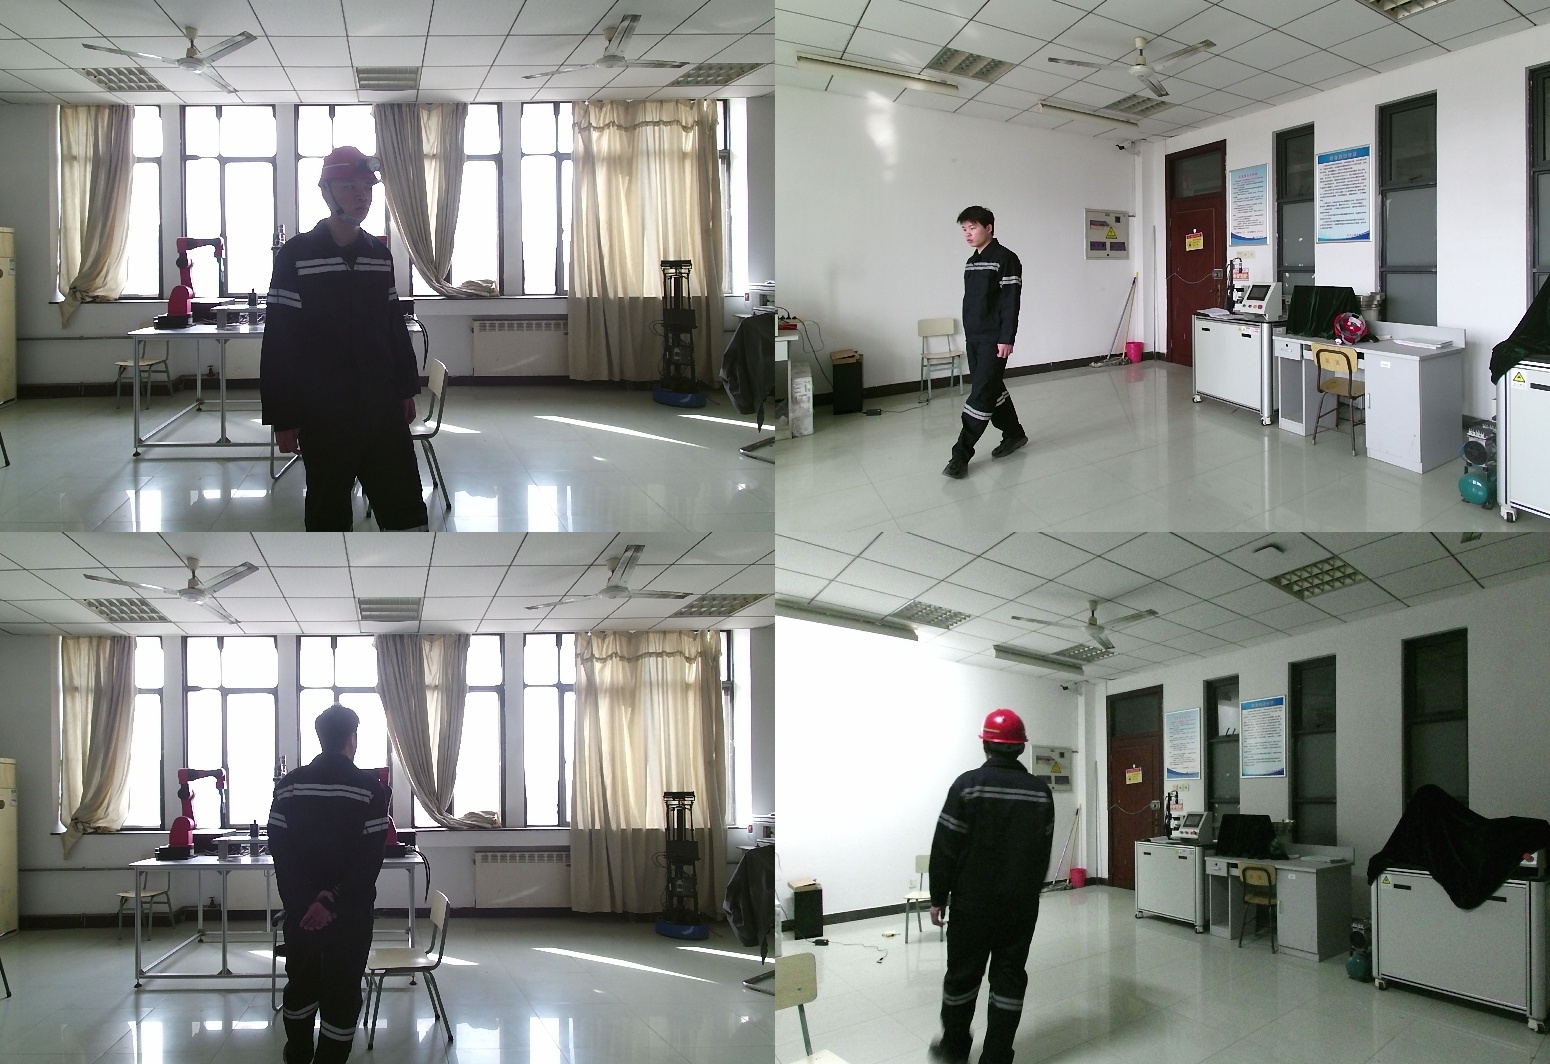person: (269, 148, 438, 532), (265, 705, 413, 1064), (928, 706, 1070, 1064), (943, 207, 1035, 477)
